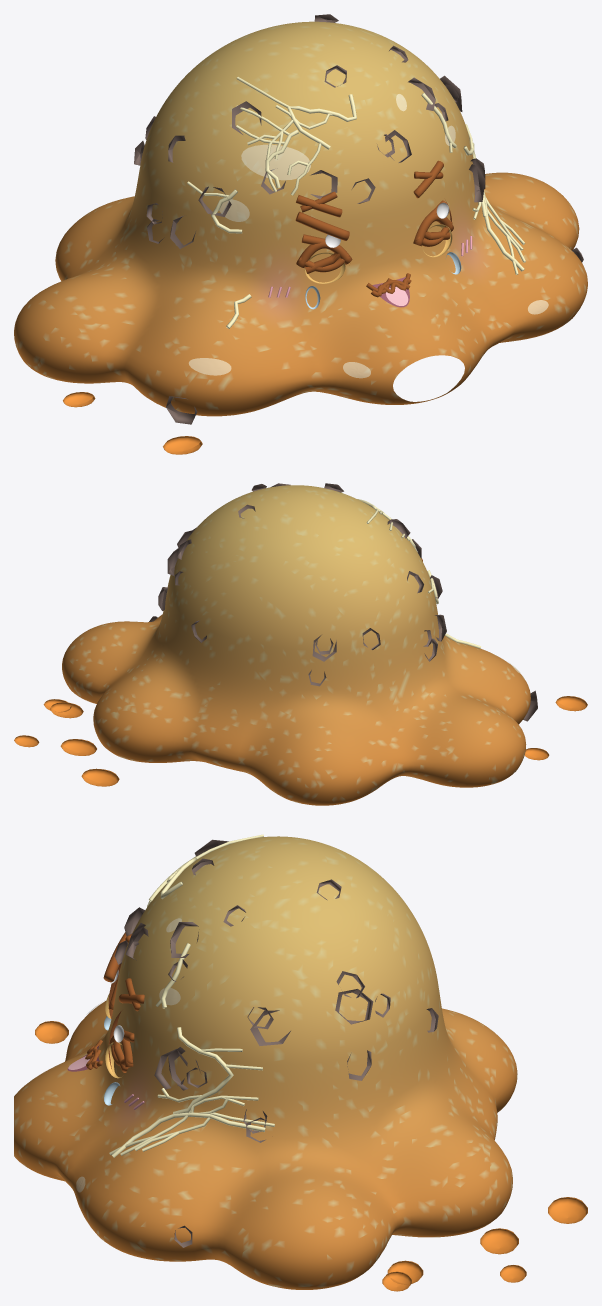
The model's file is l_lava_slime.glb.
3 views of the same model, one above another, from view 1: azimuth 30°, elevation 25°; view 2: azimuth 150°, elevation 25°; view 3: azimuth 270°, elevation 25° (orthographic). The views are drawn at different scales.
Visible parts, largest first — view 1: BodyMesh, face_eyes_happy, face_eyes_normal, face_brows_angry, face_eyes_strain, face_brow_smug; view 2: BodyMesh; view 3: BodyMesh, face_eyes_normal.
Part boxes in pixels (<box>): BodyMesh: <box>14,14,587,454</box>; face_eyes_happy: <box>296,214,453,267</box>; face_eyes_normal: <box>304,200,452,283</box>; face_brows_angry: <box>296,160,443,217</box>; face_eyes_strain: <box>301,200,450,273</box>; face_brow_smug: <box>295,211,349,240</box>; BodyMesh: <box>14,483,587,805</box>; BodyMesh: <box>14,834,587,1291</box>; face_eyes_normal: <box>105,963,124,1078</box>.
Bounding box in the file's own units: 2.93 × 1.44 × 2.48.
